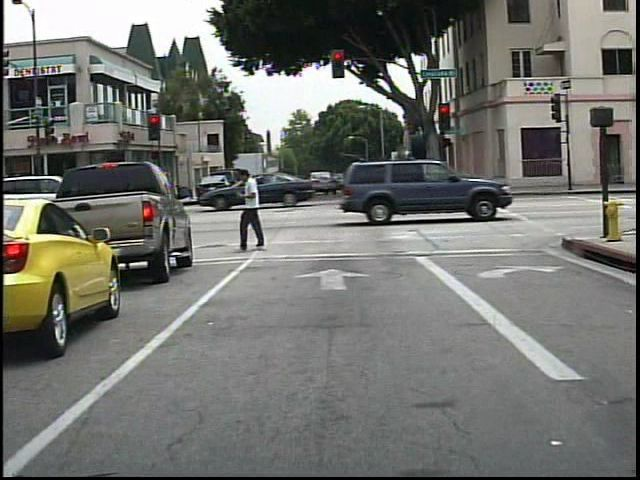person: (235, 166, 276, 252), (270, 165, 298, 208)
